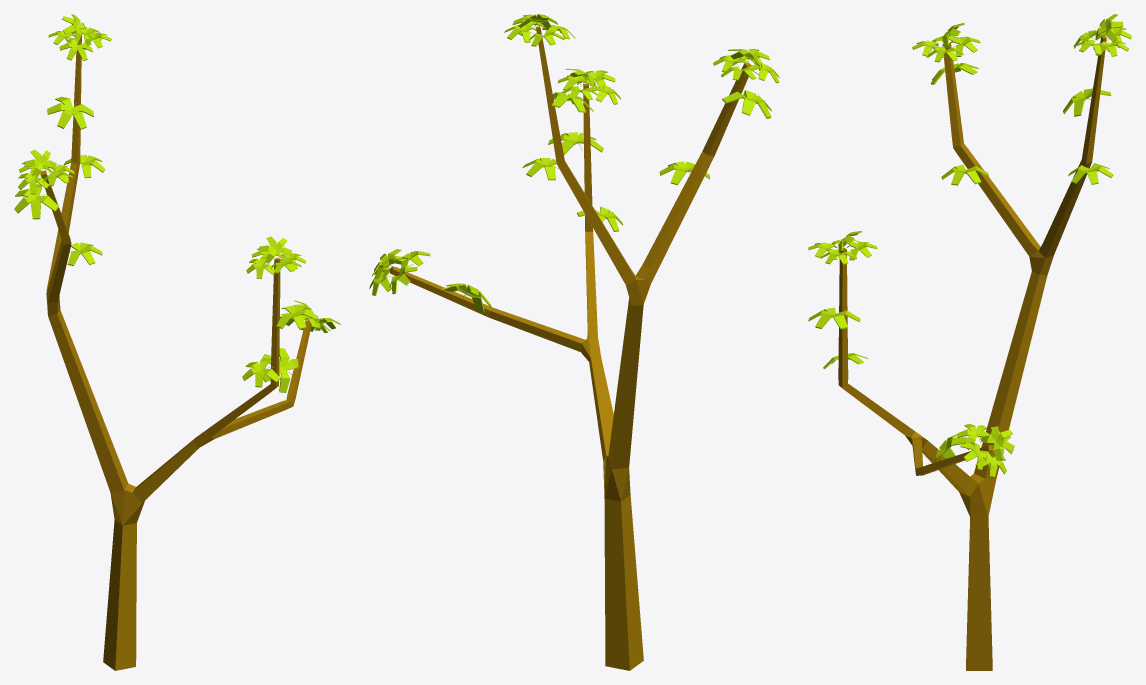
Rendered from littleBaobob.glb.
3 views of the same model, side by side, from view 1: azimuth 30°, elevation 25°; view 2: azimuth 150°, elevation 25°; view 3: azimuth 270°, elevation 25° (orthographic). The views are drawn at different scales.
Parts seen in each view (by area): view 1: Cube; view 2: Cube; view 3: Cube.
Part boxes in pixels (x1=…): Cube: x1=14, y1=14, x2=340, y2=670; Cube: x1=369, y1=14, x2=779, y2=670; Cube: x1=808, y1=14, x2=1131, y2=670.
Bounding box in the file's own units: 5.78 × 10 × 4.48.
